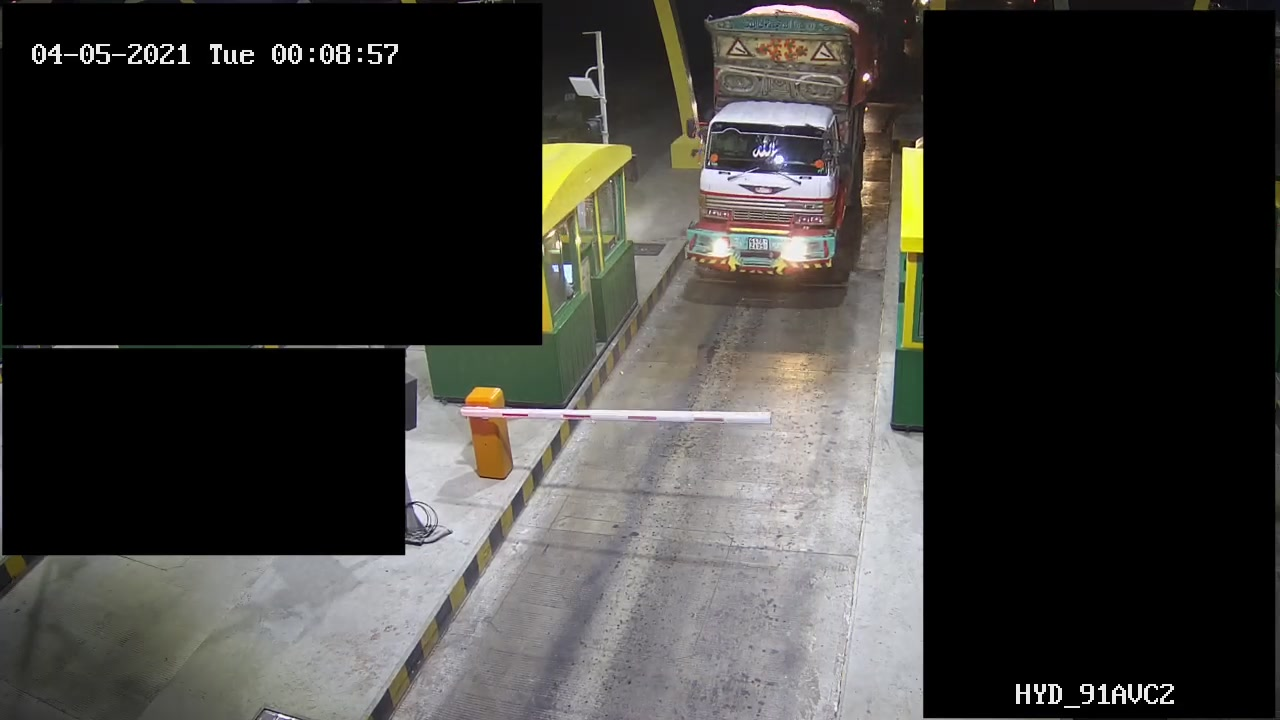F5: (677, 1, 868, 297)
